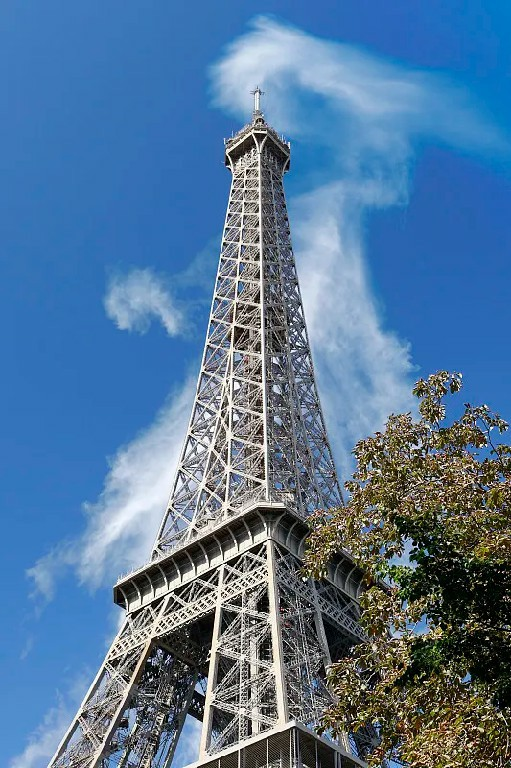Eiffel: (40, 88, 434, 768)
